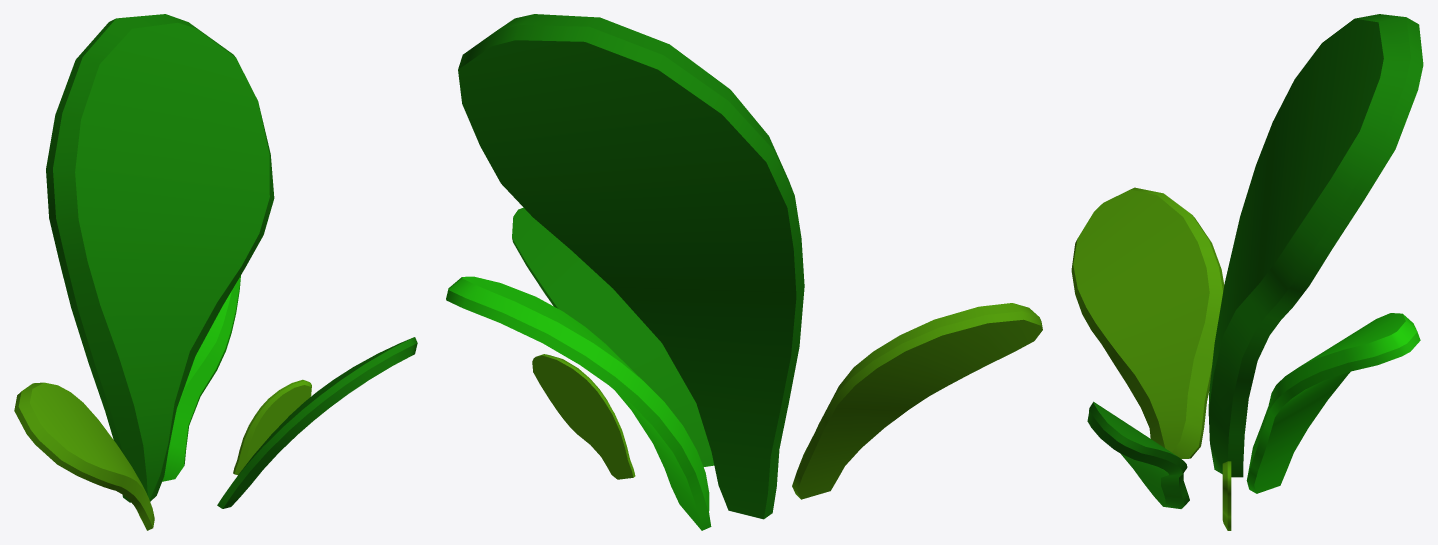
File: NeutralHerb5.fbx
3 views of the same model, side by side, from view 1: azimuth 30°, elevation 25°; view 2: azimuth 150°, elevation 25°; view 3: azimuth 270°, elevation 25° (orthographic). The views are drawn at different scales.
Visible parts, largest first — view 1: NeutralHerb5_LOD0; view 2: NeutralHerb5_LOD0; view 3: NeutralHerb5_LOD0.
Part boxes in pixels (x1=…): NeutralHerb5_LOD0: x1=14, y1=14, x2=417, y2=530; NeutralHerb5_LOD0: x1=446, y1=14, x2=1042, y2=530; NeutralHerb5_LOD0: x1=1071, y1=14, x2=1423, y2=530.
Size of what is drawn, in the model's own units: 73.51 by 74.09 by 48.57.
